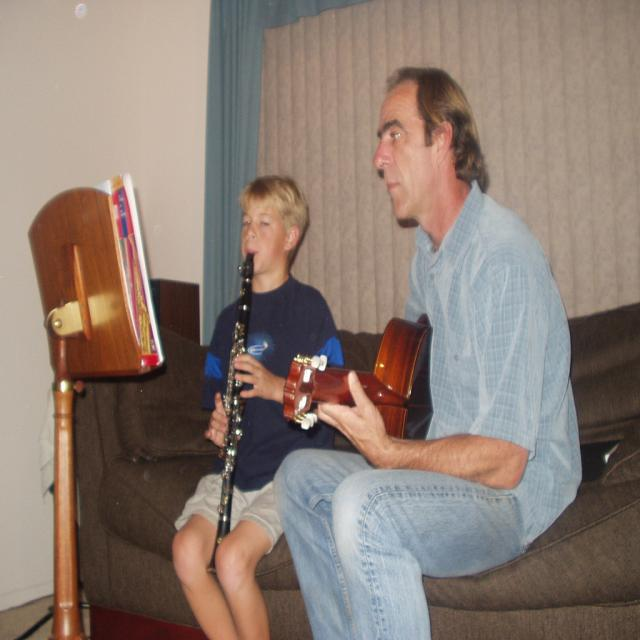clarinet: (205, 247, 256, 581)
guitar: (282, 315, 434, 464)
